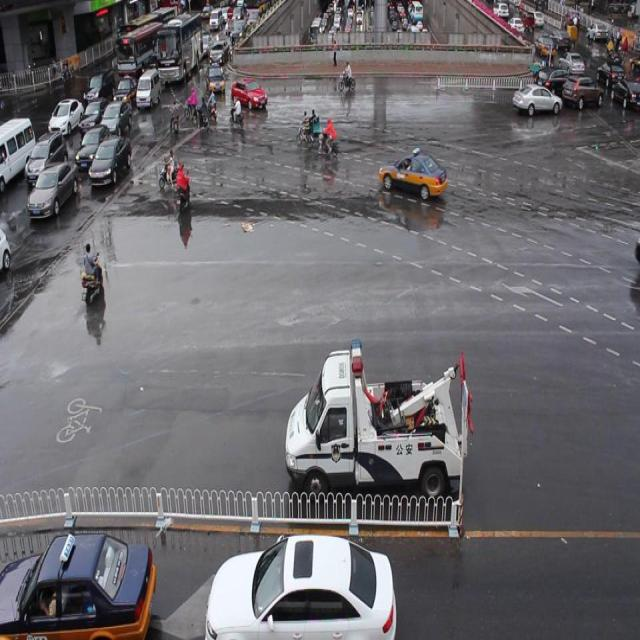bus: (285, 338, 464, 498)
car: (376, 150, 444, 198), (510, 82, 560, 115), (232, 77, 268, 110), (205, 66, 225, 94)
